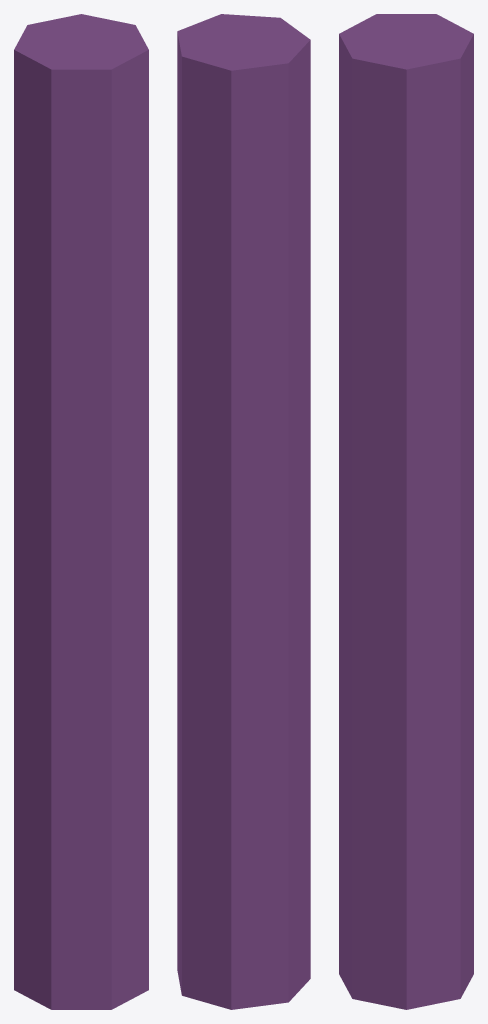
File: Treetrunk.fbx
3 renders of one model, left to right at view 1: azimuth 90°, elevation 25°; view 2: azimuth 210°, elevation 25°; view 3: azimuth 270°, elevation 25°, orthographic.
Visible parts, largest first — view 1: pCylinder1; view 2: pCylinder1; view 3: pCylinder1.
Part boxes in pixels (x1,y1,x2,y2): pCylinder1: (14, 14, 148, 1009); pCylinder1: (177, 14, 310, 1009); pCylinder1: (339, 14, 473, 1009).
Bounding box in the file's own units: 3.8 × 30 × 3.9.
